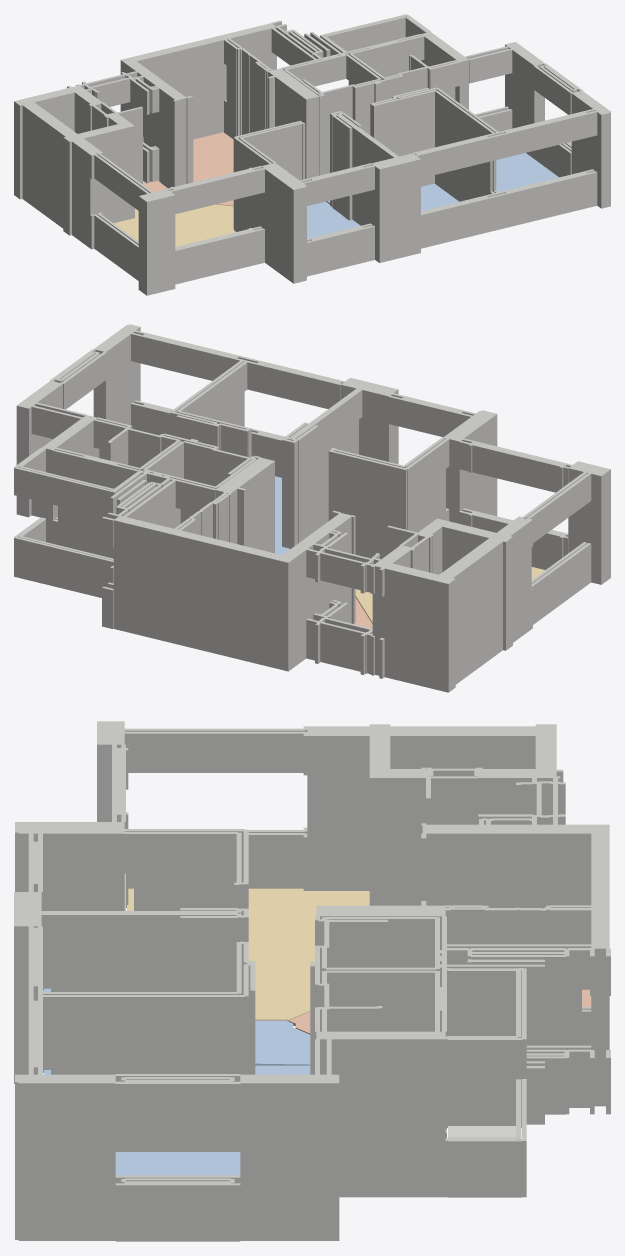
3 views of the same model, one above another, from view 1: azimuth 30°, elevation 25°; view 2: azimuth 150°, elevation 25°; view 3: azimuth 270°, elevation 25° (orthographic). The views are drawn at different scales.
Visible parts, largest first — view 1: walls, room:living:3, room:kitchen:0, room:bedroom:9, room:bedroom:4, room:bedroom:7; view 2: walls, room:bedroom:7; view 3: walls, room:living:3, room:bedroom:9, room:bedroom:4, room:ledge:5.
Part boxes in pixels (x1,y1,x2,y2): walls: [14, 14, 610, 295]; room:living:3: [114, 204, 235, 246]; room:kitchen:0: [143, 132, 233, 206]; room:bedroom:9: [496, 153, 558, 191]; room:bedroom:4: [307, 202, 360, 238]; room:bedroom:7: [326, 183, 458, 210]; walls: [14, 324, 610, 692]; room:bedroom:7: [275, 476, 290, 554]; walls: [14, 721, 610, 1241]; room:living:3: [127, 888, 369, 1021]; room:bedroom:9: [115, 1152, 240, 1175]; room:bedroom:4: [44, 988, 310, 1065]; room:ledge:5: [448, 1126, 515, 1137].
Size of the model in its own units: 13.8 by 2.8 by 9.6.
